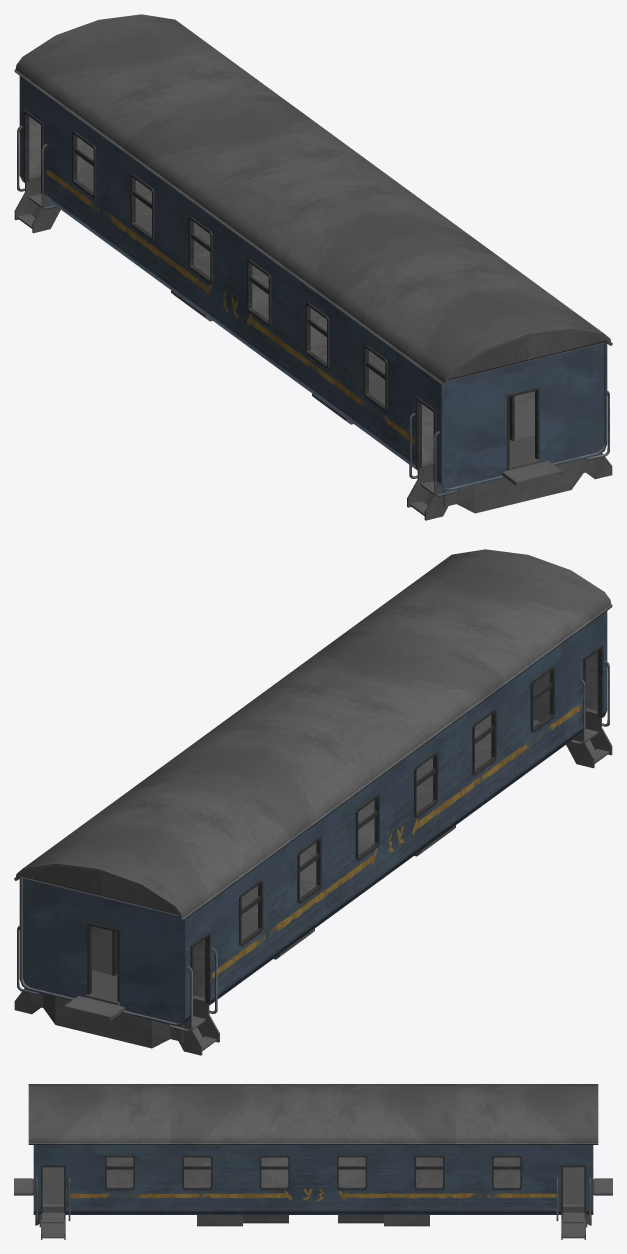
Rendered from Railway_Body.fbx.
3 views of the same model, one above another, from view 1: azimuth 30°, elevation 25°; view 2: azimuth 150°, elevation 25°; view 3: azimuth 270°, elevation 25° (orthographic). The views are drawn at different scales.
Visible parts, largest first — view 1: Railway_Body; view 2: Railway_Body; view 3: Railway_Body.
Part boxes in pixels (bbox=[...]): Railway_Body: bbox=[14, 14, 612, 520]; Railway_Body: bbox=[14, 549, 612, 1055]; Railway_Body: bbox=[14, 1084, 612, 1239].
Size of what is drawn, in the model's own units: 424 by 372 by 1781.
